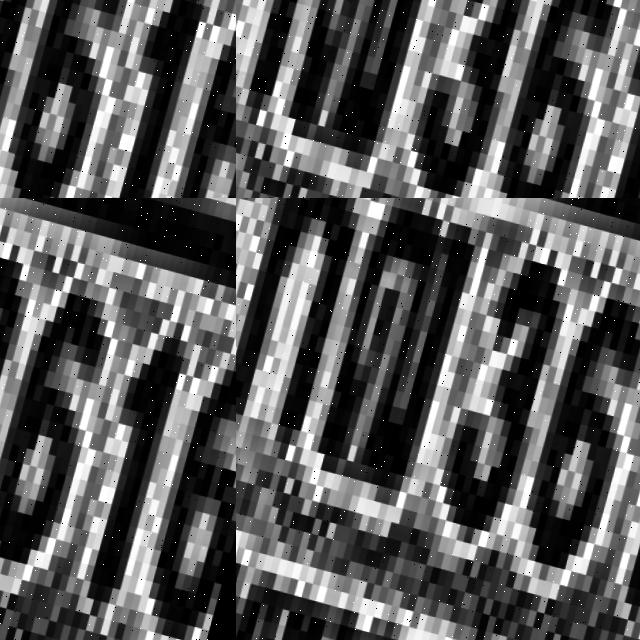license-plate: (236, 198, 640, 640), (0, 198, 236, 640), (0, 0, 236, 198)
